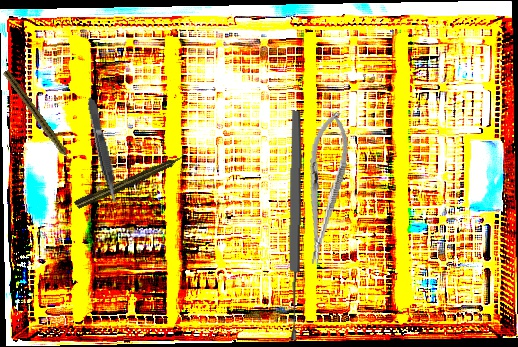Handpiece: (1, 69, 76, 168), (72, 151, 189, 211)
Needle Holder: (295, 109, 354, 267)
Surgical Spoon: (285, 110, 304, 340)
Tissue Forceps: (84, 95, 122, 208)
